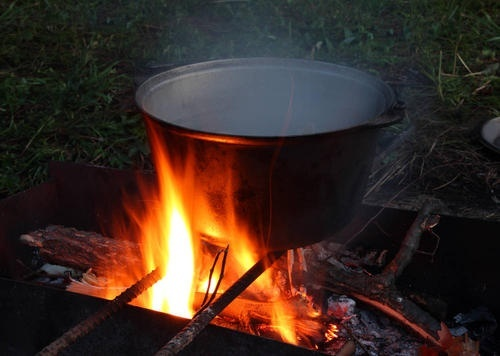fire: (139, 140, 224, 317)
